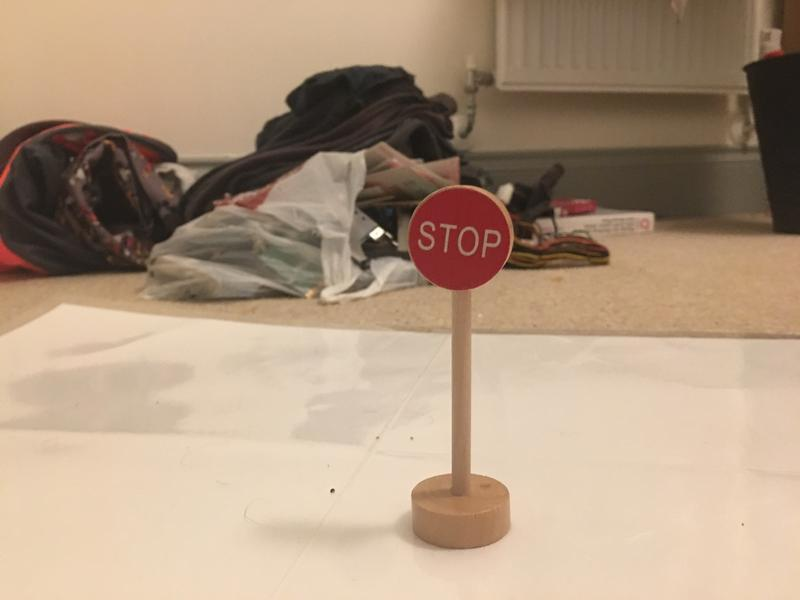Traffic_Sign_Stop: (406, 187, 509, 290)
